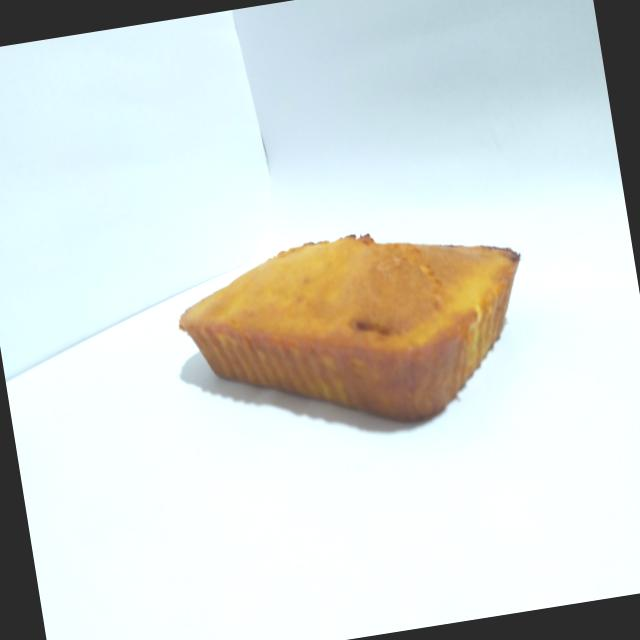Sopa: (160, 197, 556, 463)
